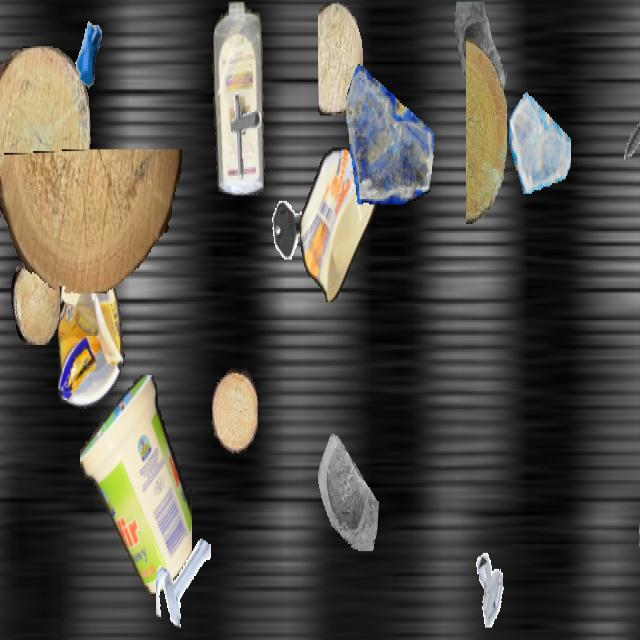glass: (346, 52, 434, 208), (305, 418, 379, 549), (451, 1, 515, 116), (509, 84, 571, 194)
metal: (61, 2, 115, 98), (156, 530, 210, 626), (216, 87, 270, 183), (470, 548, 514, 626), (270, 190, 312, 265), (617, 80, 640, 176)
plastic: (80, 375, 192, 596), (300, 147, 378, 300), (58, 235, 126, 409), (210, 2, 268, 194), (639, 279, 640, 638)
wood: (0, 150, 183, 292), (0, 46, 90, 231), (466, 39, 506, 224), (318, 1, 362, 116), (11, 258, 59, 343), (212, 368, 258, 453)
